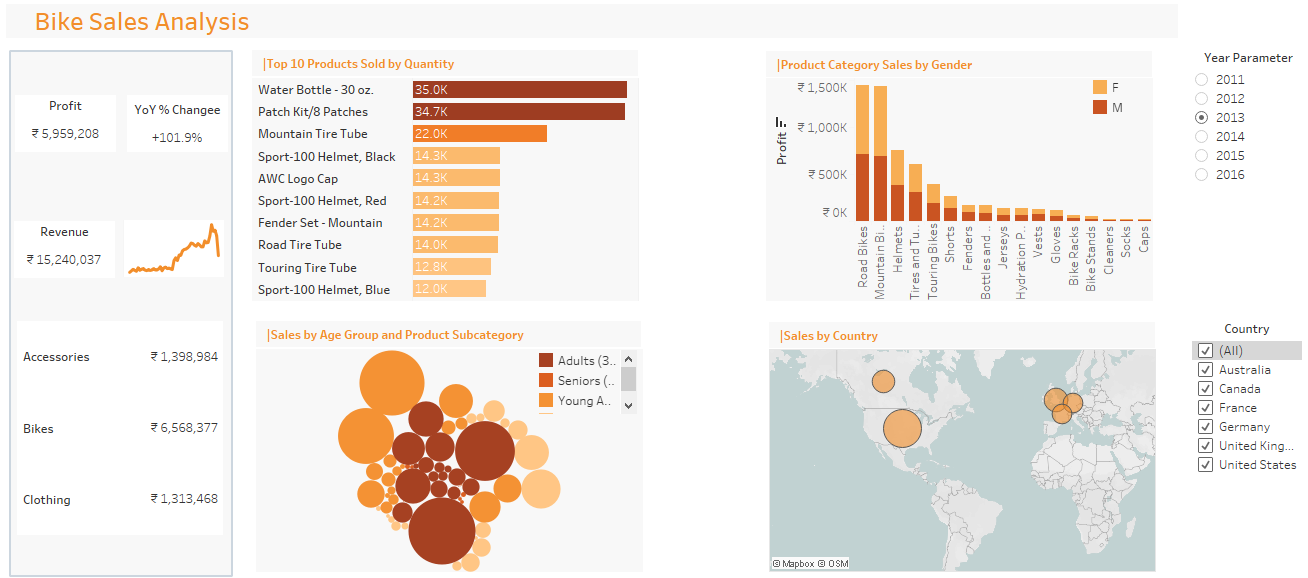

This screenshot's page, from the dashboard's own definition file:
{"tool":"tableau","page":{"name":"Bike Sales Dashboard","canvas":[1000,1000],"units":"permille","ordinal":0},"visuals":[{"type":"title","box":[6,13.3,891.1,69.8]},{"type":"parameter","param":"[Parameters].[Parameter 1]","box":[902.6,94.7,89.5,229.2]},{"type":"text","box":[194.9,96.4,291.5,43.2]},{"type":"text","box":[583,98,291.5,43.2]},{"type":"legend","title":"Sub Category Bar Chart","param":"[federated.0gns2tr0oqoomc18dkv6l0laqfpl].[none:Customer_Gender:nk]","box":[827.8,141.2,45.3,71.4]},{"type":"worksheet","title":"Top 10 Porduct","mark":"Bar","rows":["Product"],"box":[194.9,142.9,292.4,370.4]},{"type":"worksheet","title":"Sub Category Bar Chart","mark":"Automatic","rows":["Profit"],"cols":["Sub_Category"],"box":[583,142.9,292.4,370.4]},{"type":"worksheet","title":"Profit Card","mark":"Automatic","cols":["Calculation_436286221514166273"],"box":[15.8,171.1,76.4,94.7]},{"type":"worksheet","title":"YoY % Change","mark":"Automatic","cols":["Calculation_436286221518680071"],"box":[100.1,171.1,76.4,94.7]},{"type":"worksheet","title":"Revenue Line Chart","mark":"Line","rows":["Revenue"],"cols":["Date"],"box":[97.5,378.7,76.4,94.7]},{"type":"worksheet","title":"Revenue Card","mark":"Automatic","cols":["Calculation_436286221523288072"],"box":[14.9,380.4,76.4,94.7]},{"type":"filter","title":"Age Group Bubble Chart","param":"[federated.0gns2tr0oqoomc18dkv6l0laqfpl].[none:Country:nk]","box":[905.2,544.9,83.4,260.8]},{"type":"worksheet","title":"Cost Card","mark":"Automatic","rows":["Product_Category"],"box":[17.6,546.5,155.4,355.5]},{"type":"text","box":[197.5,546.5,291.5,43.2]},{"type":"text","box":[585.6,548.2,291.5,43.2]},{"type":"worksheet","title":"Age Group Bubble Chart","mark":"Circle","box":[197.5,593,292.4,370.4]},{"type":"worksheet","title":"Map","mark":"Automatic","box":[585.6,593,292.4,370.4]},{"type":"legend","title":"Age Group Bubble Chart","param":"[federated.0gns2tr0oqoomc18dkv6l0laqfpl].[none:Age_Group:nk]","box":[409.1,594.7,78.1,106.3]}]}

Visuals, with their boxes on the dashboard's canvas, which has no fixed pixel size, in thousandths of its width and height (x1, y1, x2, y2). These are canvas units, not pixel positions in the 1308x578 screenshot, which may show the page scaled, cropped or inside an application window:
title: {"x1": 6, "y1": 13, "x2": 897, "y2": 83}
parameter: {"x1": 903, "y1": 95, "x2": 992, "y2": 324}
text: {"x1": 195, "y1": 96, "x2": 486, "y2": 140}
text: {"x1": 583, "y1": 98, "x2": 874, "y2": 141}
"Sub Category Bar Chart" legend: {"x1": 828, "y1": 141, "x2": 873, "y2": 213}
"Top 10 Porduct" worksheet (Bar marks): {"x1": 195, "y1": 143, "x2": 487, "y2": 513}
"Sub Category Bar Chart" worksheet: {"x1": 583, "y1": 143, "x2": 875, "y2": 513}
"Profit Card" worksheet: {"x1": 16, "y1": 171, "x2": 92, "y2": 266}
"YoY % Change" worksheet: {"x1": 100, "y1": 171, "x2": 176, "y2": 266}
"Revenue Line Chart" worksheet (Line marks): {"x1": 98, "y1": 379, "x2": 174, "y2": 473}
"Revenue Card" worksheet: {"x1": 15, "y1": 380, "x2": 91, "y2": 475}
"Age Group Bubble Chart" filter: {"x1": 905, "y1": 545, "x2": 989, "y2": 806}
"Cost Card" worksheet: {"x1": 18, "y1": 546, "x2": 173, "y2": 902}
text: {"x1": 198, "y1": 546, "x2": 489, "y2": 590}
text: {"x1": 586, "y1": 548, "x2": 877, "y2": 591}
"Age Group Bubble Chart" worksheet (Circle marks): {"x1": 198, "y1": 593, "x2": 490, "y2": 963}
"Map" worksheet: {"x1": 586, "y1": 593, "x2": 878, "y2": 963}
"Age Group Bubble Chart" legend: {"x1": 409, "y1": 595, "x2": 487, "y2": 701}
